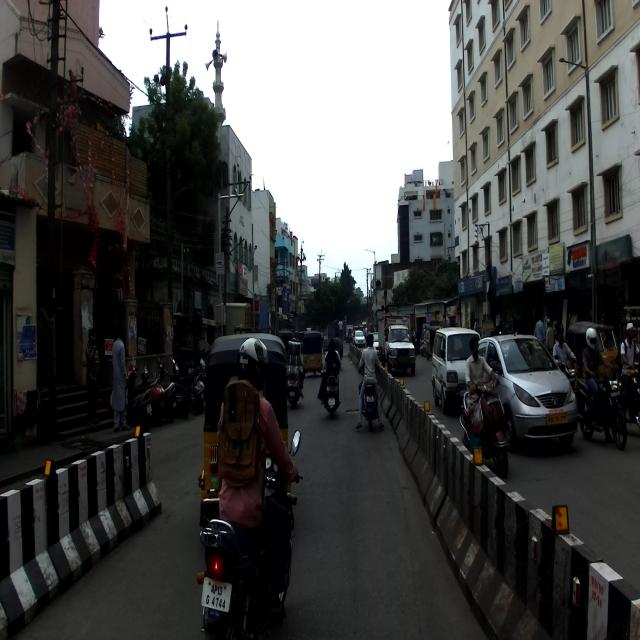Car_TATA: (471, 333, 578, 452)
autorickshaw: (201, 331, 293, 546), (566, 319, 622, 391)
motorcycle_Hero: (195, 427, 303, 639)
motorcycle_Honda: (576, 364, 628, 451)
scooter: (459, 375, 511, 481), (135, 364, 172, 412)
